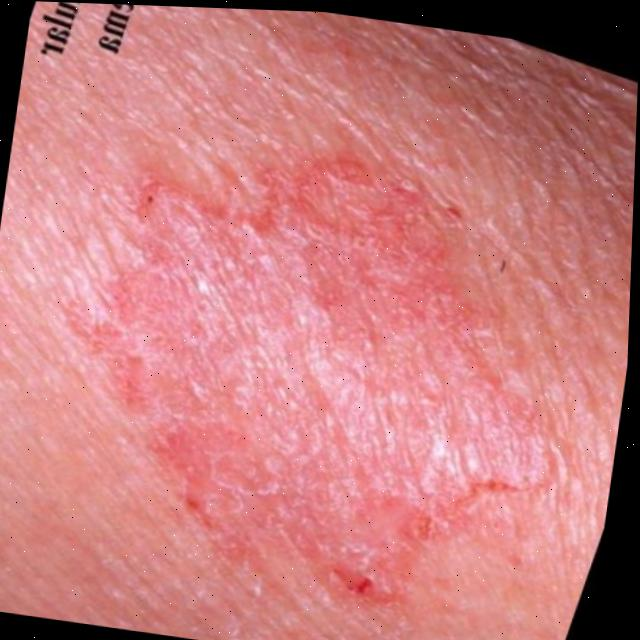Eczema: (62, 136, 544, 640)
